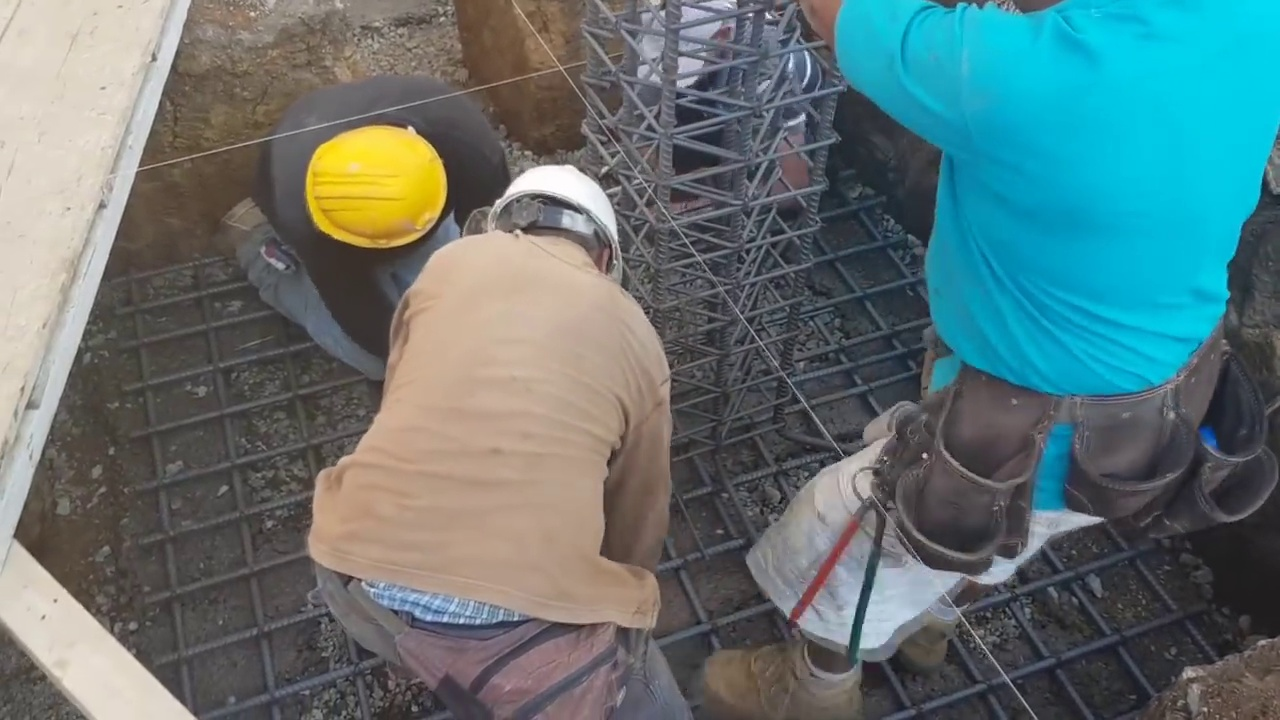helmet: (307, 124, 448, 249), (490, 161, 621, 259)
helmet-off: (633, 0, 730, 98)
helmet-on: (296, 103, 460, 257), (477, 152, 624, 284)
person: (705, 0, 1278, 712), (301, 154, 684, 719), (213, 75, 512, 384), (587, 0, 814, 212)
